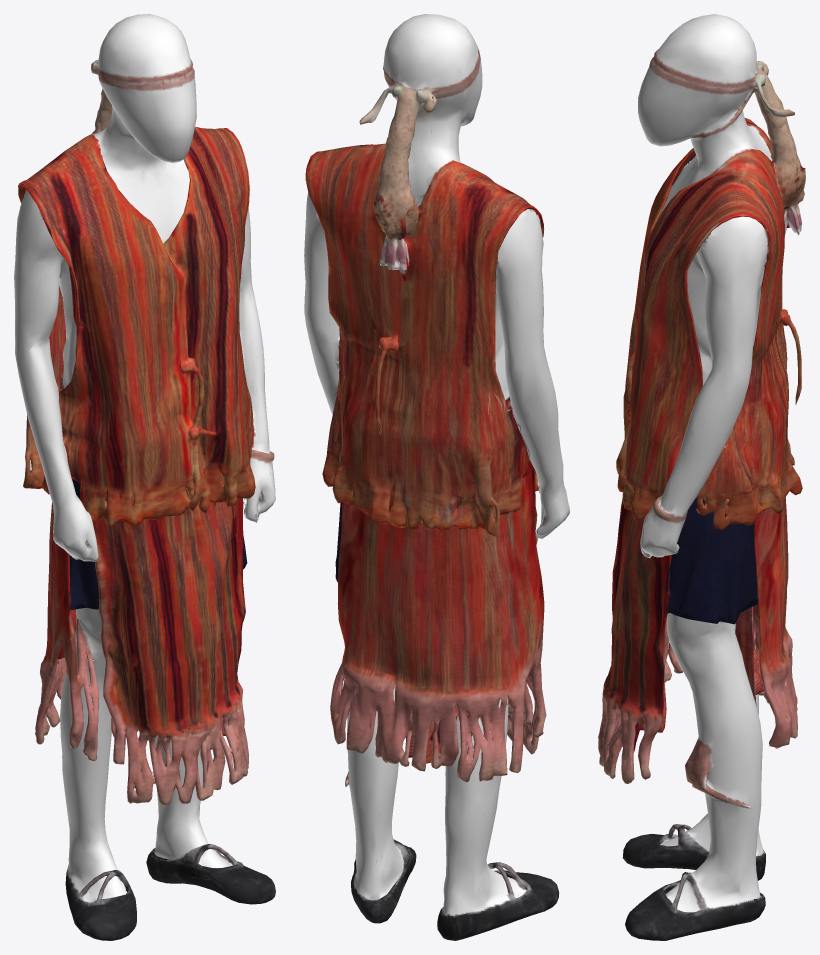
The model's file is E_de_nam_00001.glb.
3 views of the same model, side by side, from view 1: azimuth 30°, elevation 25°; view 2: azimuth 150°, elevation 25°; view 3: azimuth 270°, elevation 25° (orthographic).
Bounding box in the file's own units: 0.2708 × 0.979 × 0.2085.
1 material, 1 textured.
